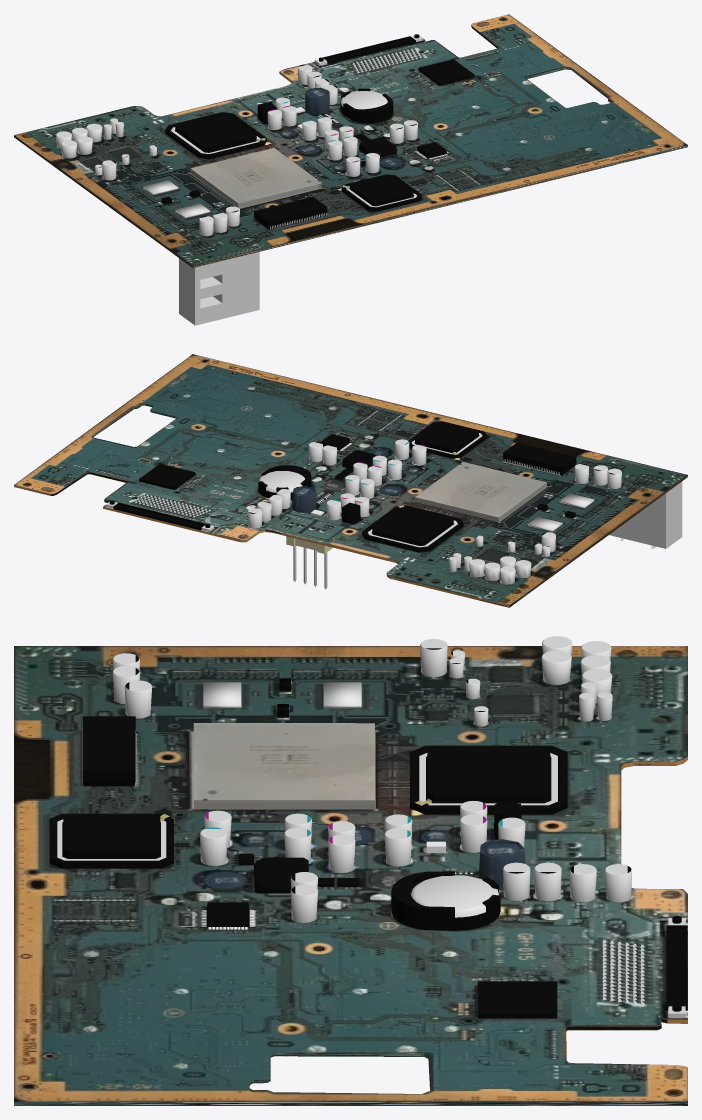
The model's file is td-board_lod1.glb.
3 renders of one model, top to bottom at view 1: azimuth 30°, elevation 25°; view 2: azimuth 150°, elevation 25°; view 3: azimuth 270°, elevation 25°, orthographic. The views are drawn at different scales.
Visible parts, largest first — view 1: body; view 2: body; view 3: body.
Part boxes in pixels (<box>): body: <box>14,14,687,325</box>; body: <box>14,354,687,607</box>; body: <box>14,636,687,1105</box>.
Size of the model in its own units: 0.24 by 0.0393 by 0.15.
Materials: 9 (2 with a texture image).
